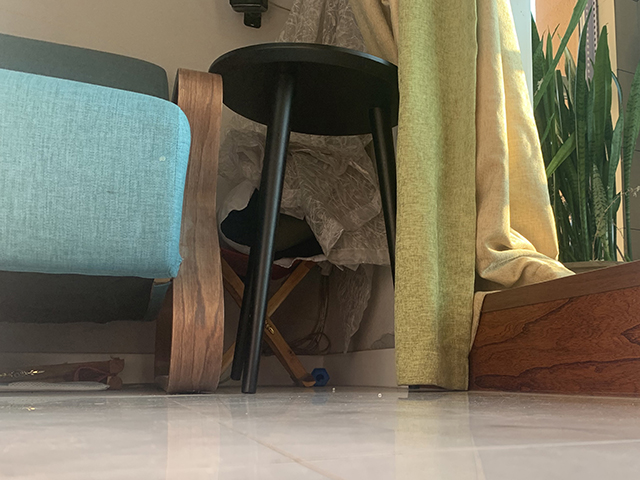curtain: (218, 1, 575, 394)
sofa: (1, 32, 224, 395)
stool: (208, 40, 400, 395)
